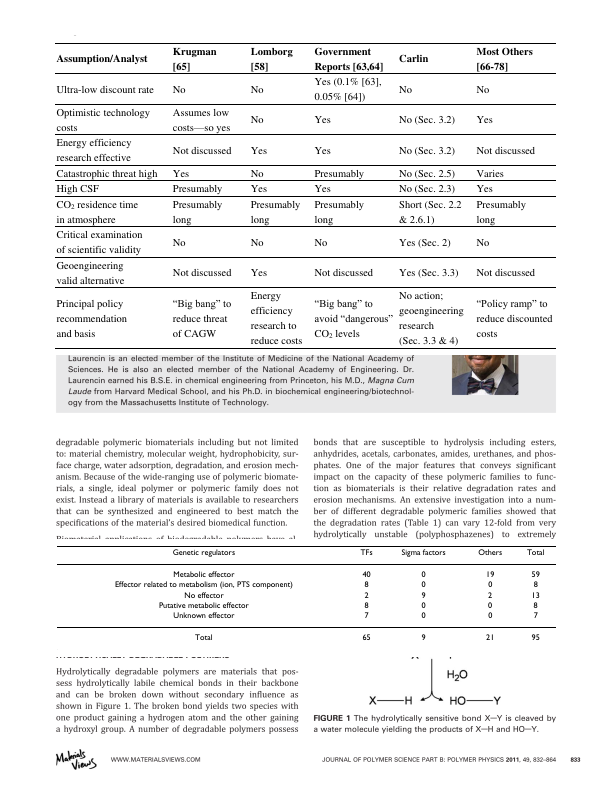borderless: (55, 41, 556, 348), (55, 544, 557, 651)
cell: (398, 289, 465, 348), (314, 295, 394, 341), (475, 295, 554, 340), (55, 297, 128, 340), (250, 289, 303, 348), (172, 295, 232, 340), (55, 106, 151, 134), (55, 228, 144, 257), (55, 198, 139, 226), (55, 136, 132, 165), (314, 44, 384, 73), (314, 75, 383, 104), (55, 259, 125, 287), (398, 198, 463, 226), (113, 581, 293, 591), (475, 44, 534, 73), (172, 106, 231, 135), (475, 198, 527, 226), (172, 198, 223, 226), (250, 198, 301, 226), (314, 198, 365, 226), (55, 167, 158, 180), (172, 44, 218, 73), (55, 52, 148, 66), (55, 83, 155, 96), (250, 44, 294, 73), (157, 601, 249, 611), (398, 266, 460, 280), (475, 266, 536, 280), (172, 266, 232, 280), (314, 266, 374, 280), (398, 113, 456, 127), (398, 182, 456, 196), (475, 144, 536, 157), (172, 144, 232, 157), (398, 144, 456, 157), (398, 167, 456, 180), (172, 182, 223, 196), (398, 236, 452, 249), (314, 167, 365, 180), (171, 548, 236, 558), (55, 182, 100, 196), (172, 571, 235, 580), (172, 612, 235, 621), (400, 548, 446, 558), (398, 52, 429, 66), (183, 591, 224, 601), (475, 167, 505, 180), (475, 113, 494, 127), (475, 182, 494, 196), (477, 548, 503, 558), (314, 113, 332, 127), (250, 182, 268, 196), (314, 182, 332, 196), (250, 266, 268, 280), (250, 144, 268, 157), (314, 144, 332, 157), (172, 167, 190, 180), (250, 113, 265, 127), (525, 548, 545, 558), (172, 83, 187, 96), (250, 83, 265, 96), (398, 83, 413, 96), (475, 83, 490, 96), (250, 167, 265, 180), (172, 236, 187, 249), (250, 236, 265, 249), (475, 236, 490, 249), (194, 634, 213, 644), (314, 236, 328, 249), (359, 548, 373, 558), (530, 591, 540, 601), (361, 634, 371, 644), (485, 634, 495, 644), (530, 634, 540, 644), (361, 571, 371, 580), (485, 571, 495, 580), (530, 571, 540, 580), (363, 581, 369, 591), (420, 581, 426, 591), (487, 581, 493, 591), (532, 581, 538, 591), (363, 591, 369, 601), (420, 591, 426, 601), (487, 591, 493, 601), (363, 601, 369, 611), (420, 601, 426, 611), (487, 601, 493, 611), (532, 601, 538, 611), (420, 634, 426, 644), (420, 571, 426, 580), (363, 612, 369, 621), (420, 612, 426, 621), (487, 612, 493, 621), (532, 612, 538, 621)
